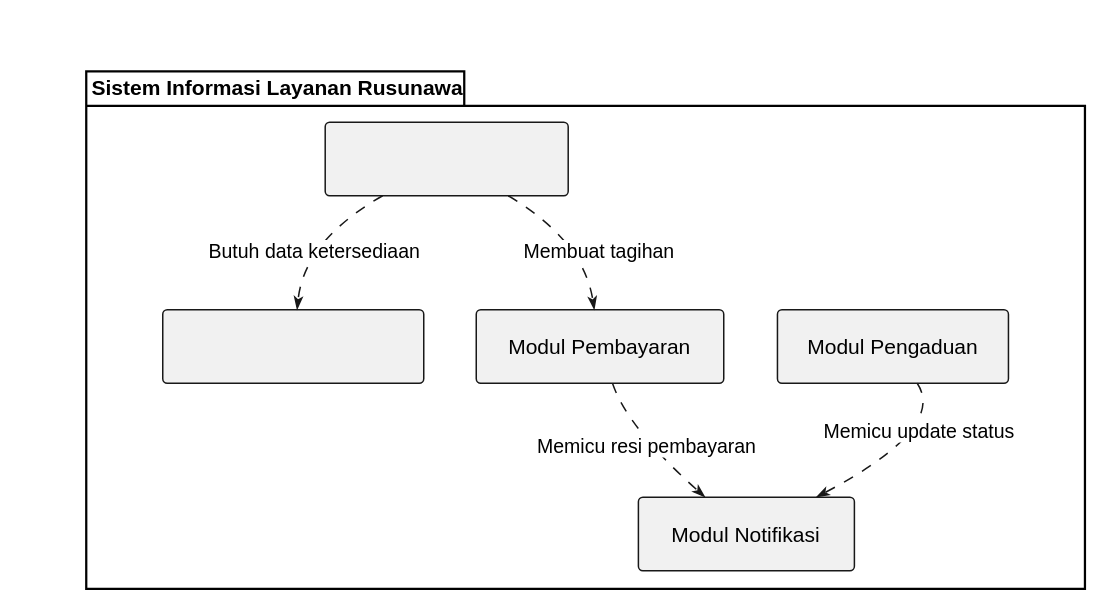
The diagram is 1112 pixels wide and 615 high, and some of its shapes have lost their labels. The shapes that lost their labels are listed below. From the top down, each one's centre as x and y in pixels, then its label:
point (446, 158): Modul Pendaftaran
point (292, 345): Modul Kamar & Tarif
